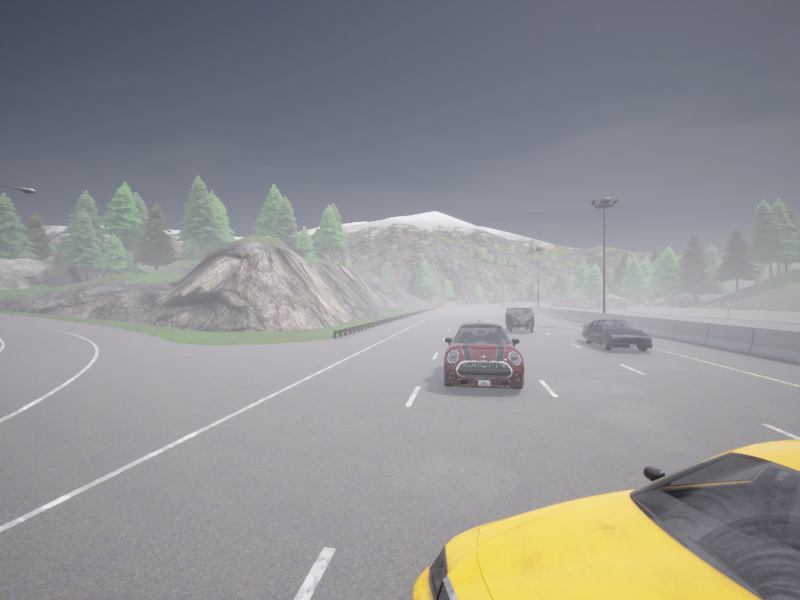vehicle: (413, 439, 799, 599), (444, 318, 523, 388), (581, 319, 653, 350), (505, 306, 535, 332)
